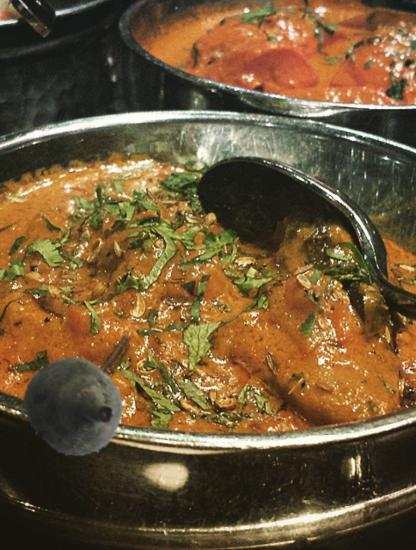Beetroot: (22, 353, 133, 464)
